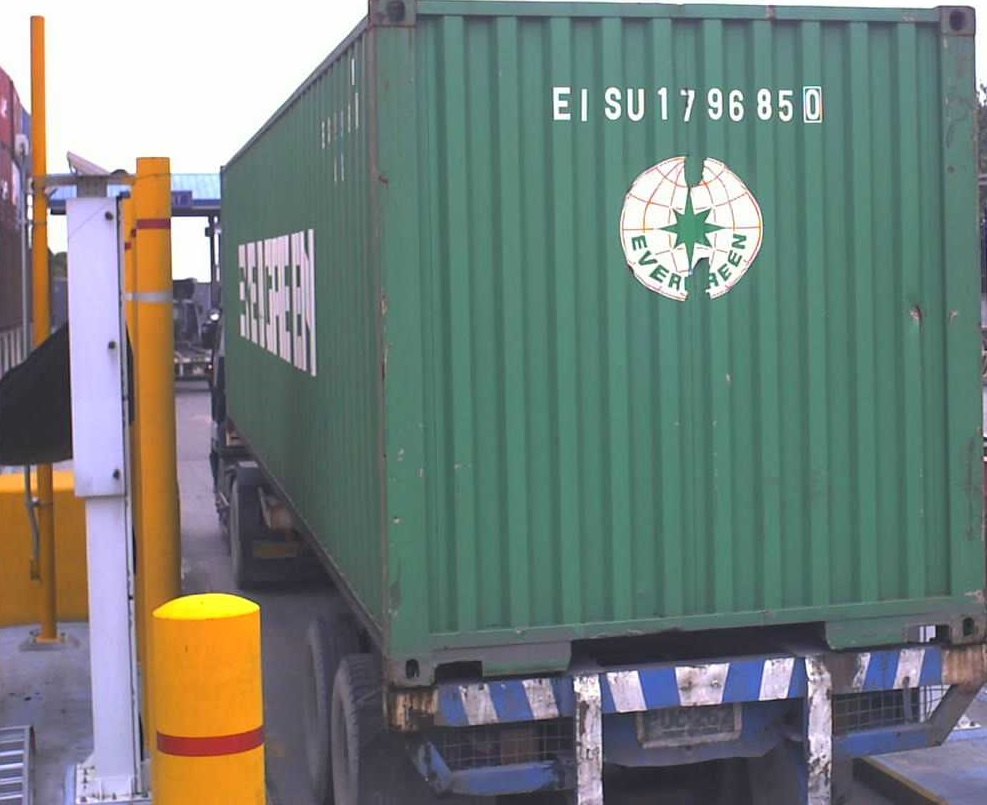container_no_door: (369, 3, 987, 681)
